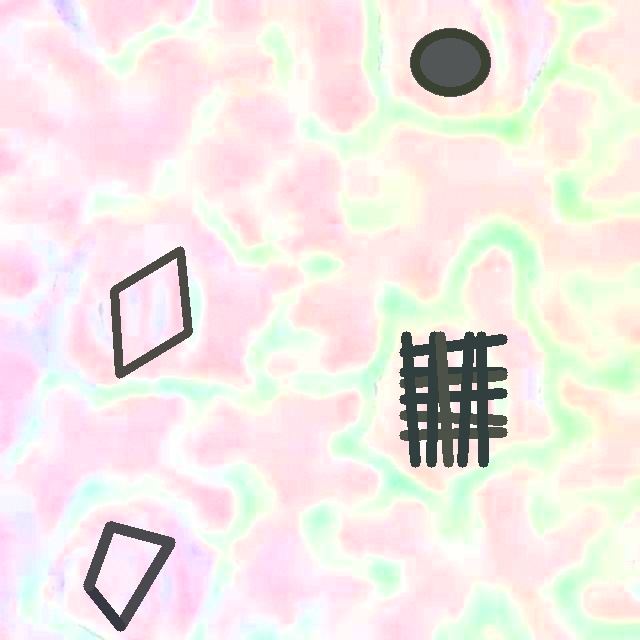close: (399, 332, 506, 467), (110, 246, 192, 377), (84, 521, 175, 630)
open: (411, 28, 490, 96)
